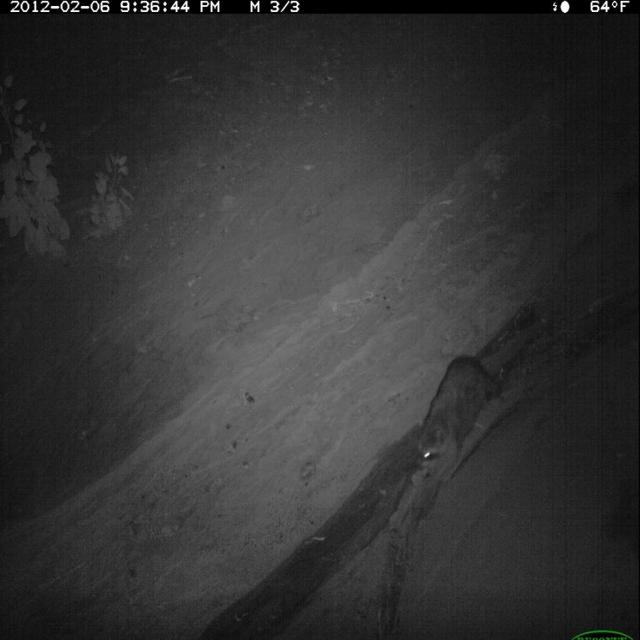raccoon: (409, 340, 518, 486)
